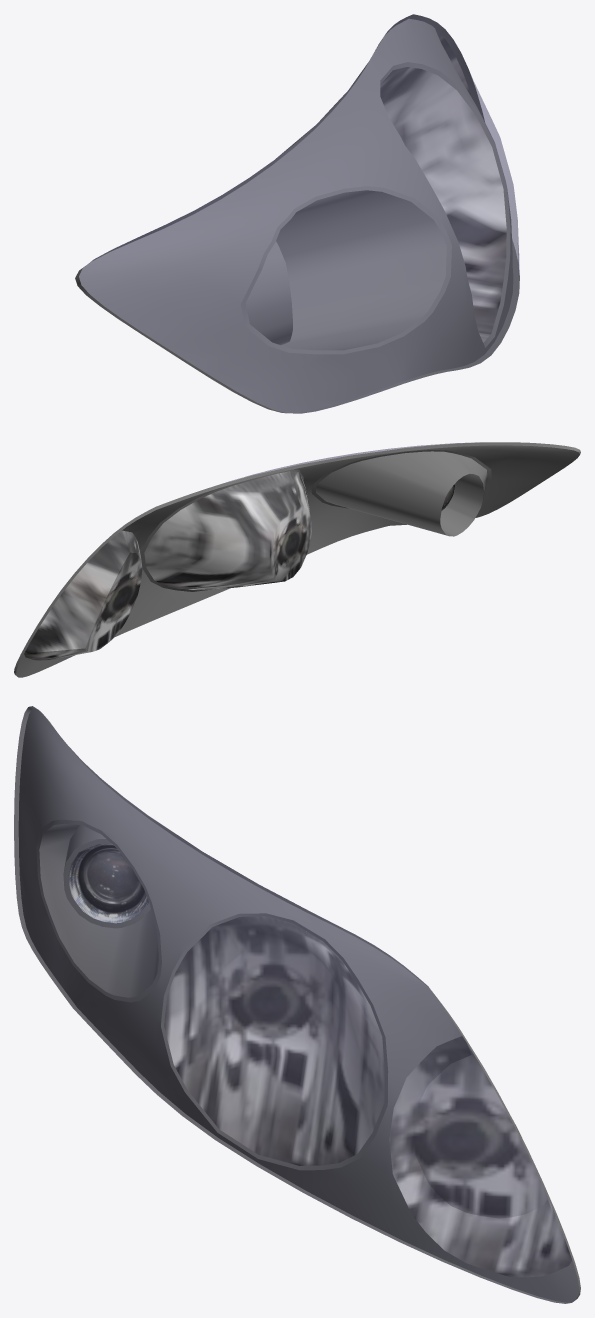
3 renders of one model, top to bottom at view 1: azimuth 30°, elevation 25°; view 2: azimuth 150°, elevation 25°; view 3: azimuth 270°, elevation 25°, orthographic. The views are drawn at different scales.
Visible parts, largest first — view 1: Y212_061B_R_Y212_061B_R_5_DTaSI, Y212_061B_R_Y212_061B_R_3_DaS, Y212_061B_R_Y212_061B_R_1_N; view 2: Y212_061B_R_Y212_061B_R_3_DaS, Y212_061B_R_Y212_061B_R_1_N, Y212_061B_R_2_N_Y212_061B_R, Y212_061B_R_Y212_061B_R_5_DTaSI; view 3: Y212_061B_R_Y212_061B_R_5_DTaSI, Y212_061B_R_Y212_061B_R_3_DaS, Y212_061B_R_Y212_061B_R_1_N, Y212_061B_R_2_N_Y212_061B_R, Y212_061B_R_Y212_061B_R_4_N.
Part boxes in pixels (left/top/right/bottom): Y212_061B_R_Y212_061B_R_5_DTaSI: left=79, top=14, right=519, bottom=413; Y212_061B_R_Y212_061B_R_3_DaS: left=75, top=14, right=519, bottom=413; Y212_061B_R_Y212_061B_R_1_N: left=380, top=67, right=506, bottom=342; Y212_061B_R_Y212_061B_R_3_DaS: left=14, top=442, right=580, bottom=677; Y212_061B_R_Y212_061B_R_1_N: left=144, top=471, right=311, bottom=590; Y212_061B_R_2_N_Y212_061B_R: left=24, top=530, right=142, bottom=660; Y212_061B_R_Y212_061B_R_5_DTaSI: left=222, top=442, right=478, bottom=483; Y212_061B_R_Y212_061B_R_5_DTaSI: left=14, top=706, right=578, bottom=1303; Y212_061B_R_Y212_061B_R_3_DaS: left=14, top=706, right=580, bottom=1303; Y212_061B_R_Y212_061B_R_1_N: left=164, top=916, right=384, bottom=1165; Y212_061B_R_2_N_Y212_061B_R: left=389, top=1036, right=571, bottom=1277; Y212_061B_R_Y212_061B_R_4_N: left=68, top=843, right=148, bottom=923.
Bounding box in the file's own units: 52.67 × 25.76 × 42.65.
